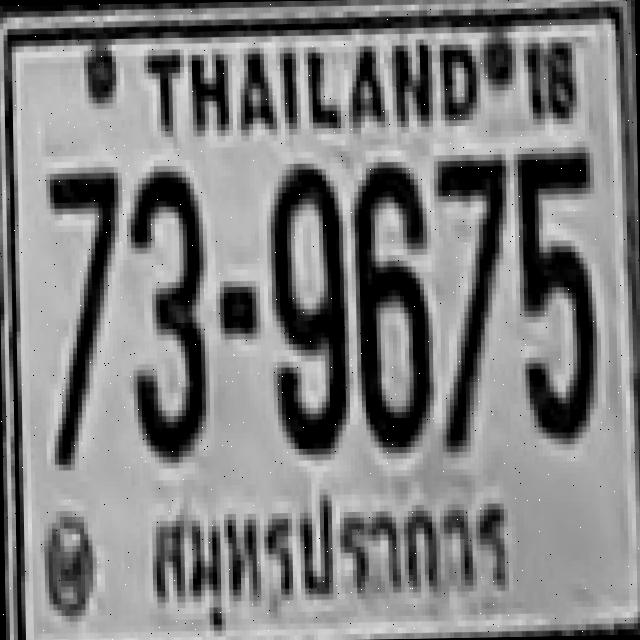3: (123, 165, 204, 451)
5: (513, 144, 594, 436)
6: (349, 156, 426, 448)
7: (433, 148, 506, 446), (45, 166, 118, 458), (46, 167, 116, 366)
9: (265, 156, 346, 448)
SamutPrakan: (137, 468, 520, 630)
